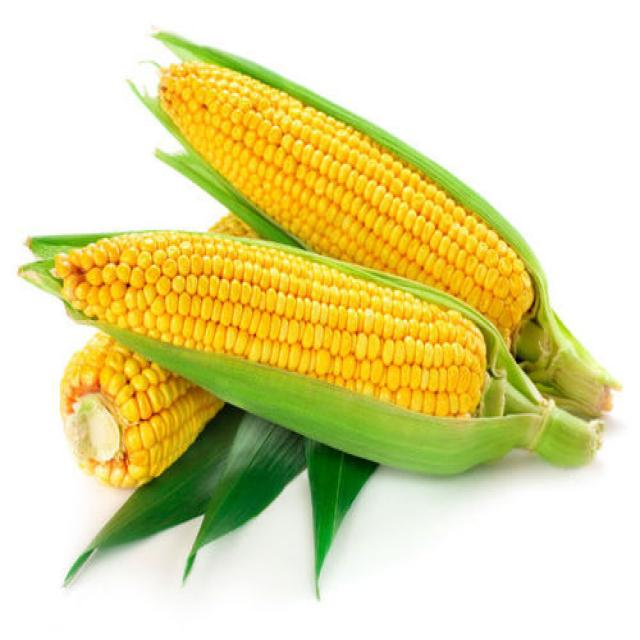corn: (123, 10, 587, 397), (50, 216, 546, 467)
